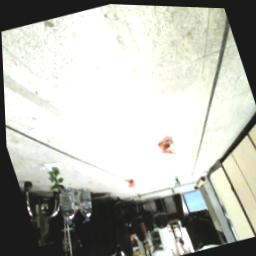herb: (43, 164, 67, 196), (172, 174, 181, 187)
wild: (157, 139, 178, 159), (124, 177, 137, 191)
